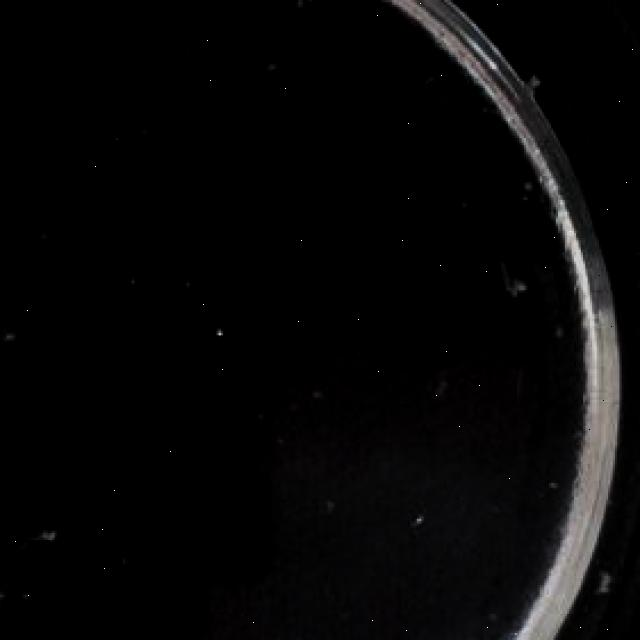Microplastic: (480, 250, 530, 309), (578, 566, 628, 609), (32, 506, 70, 556), (0, 304, 18, 376), (271, 0, 337, 19), (0, 578, 9, 628)
